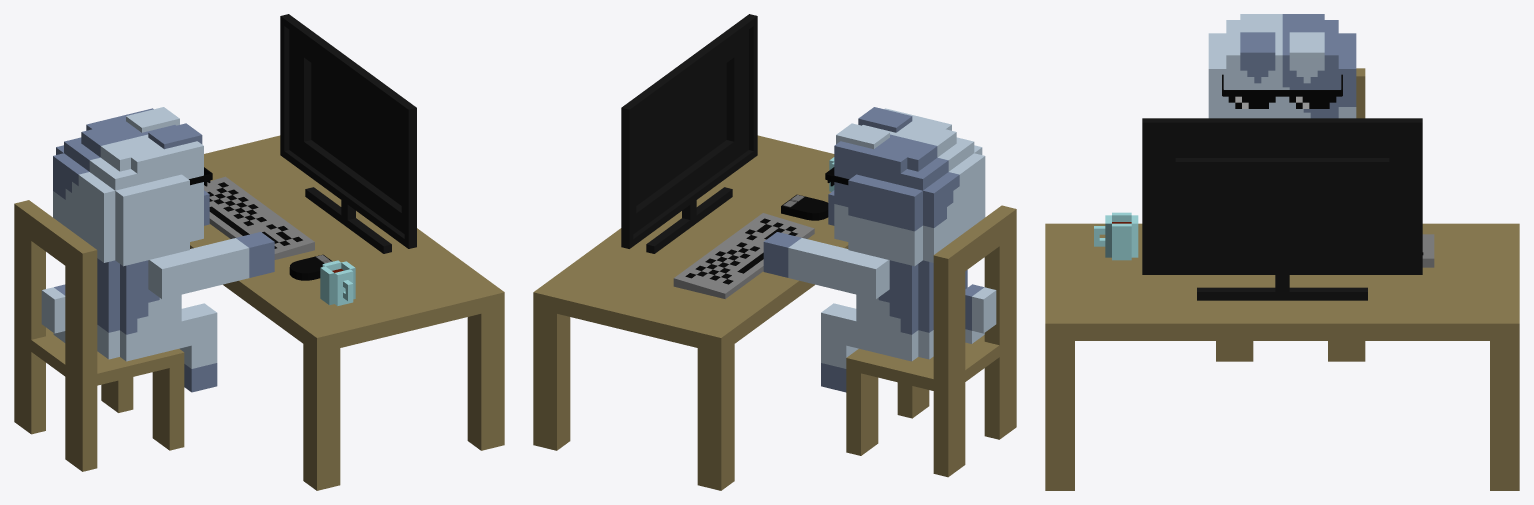
File: dog3.glb
The picture shows the model from 3 angles, left to right: view 1: azimuth 30°, elevation 25°; view 2: azimuth 150°, elevation 25°; view 3: azimuth 270°, elevation 25°; orthographic projection. The views are drawn at different scales.
Parts seen in each view (by area): view 1: desk, Cube003, Plane012, chair001, Cube003_1, Plane002, Cube_1, Plane002_1, Plane004; view 2: desk, Plane012, chair001, Cube003, Cube003_1, Plane002, Plane002_1, Plane004; view 3: Plane012, desk, Cube003, Cube003_1, chair001, Cube_1, Plane009.
Boxes of the visible parts, box(x1,y1,x2,y2) form: desk: box(190, 135, 504, 490); Cube003: box(41, 107, 249, 368); Plane012: box(280, 14, 416, 253); chair001: box(14, 200, 184, 471); Cube003_1: box(53, 108, 274, 392); Plane002: box(204, 176, 314, 259); Cube_1: box(320, 260, 355, 305); Plane002_1: box(207, 182, 302, 248); Plane004: box(289, 254, 332, 280); desk: box(533, 135, 848, 490); Plane012: box(621, 14, 757, 253); chair001: box(846, 205, 1016, 477); Cube003: box(788, 108, 996, 368); Cube003_1: box(763, 107, 984, 392); Plane002: box(673, 213, 814, 298); Plane002_1: box(685, 218, 797, 284); Plane004: box(781, 194, 828, 220); Plane012: box(1142, 118, 1422, 300); desk: box(1045, 223, 1519, 490); Cube003: box(1208, 14, 1356, 118); Cube003_1: box(1240, 14, 1356, 118); chair001: box(1216, 68, 1365, 361); Cube_1: box(1094, 212, 1138, 260); Plane009: box(1222, 74, 1342, 108).
Size of the model in its own units: 1.85 by 1.61 by 2.
